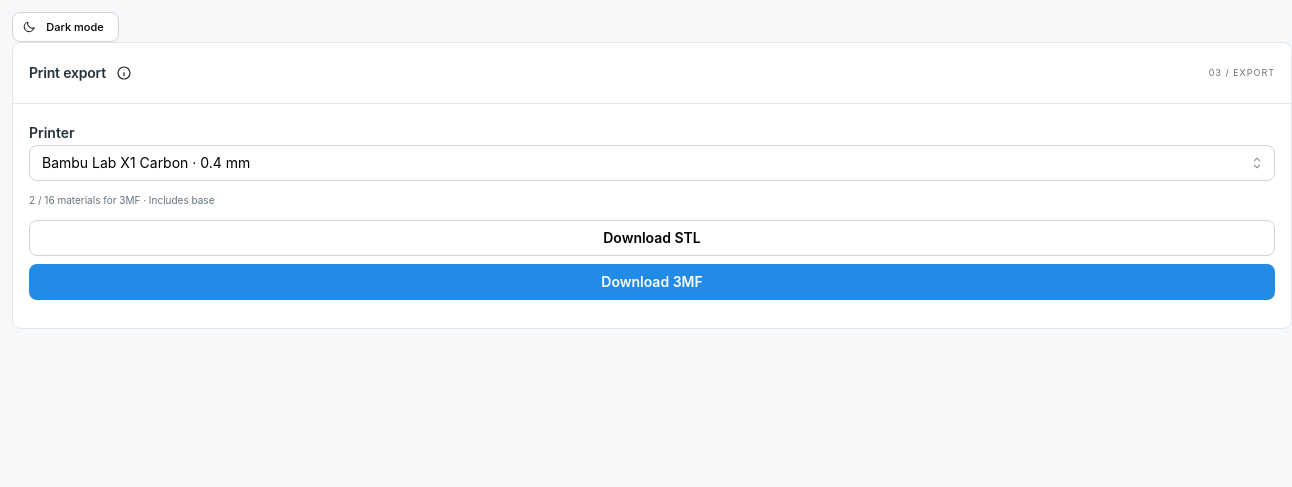
Test: export panel › times out a stalled status check and restores manual retry
Click the button "Download STL".
click(652, 238)  # box [29,220,1275,256]
Wait 13000 ms
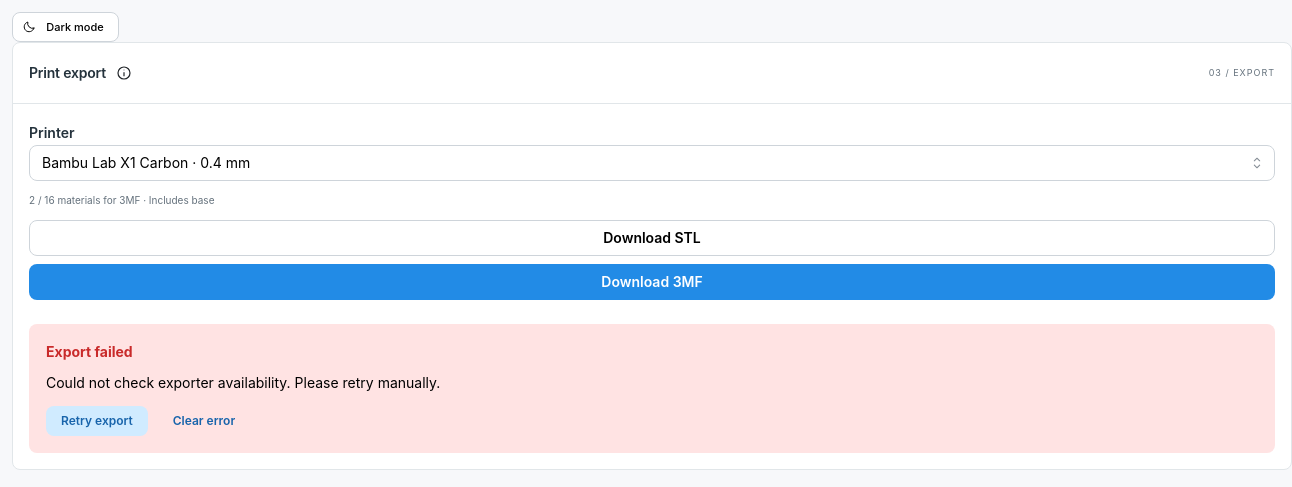
Result: the button "Retry export" is enabled at [46,406,148,436]
